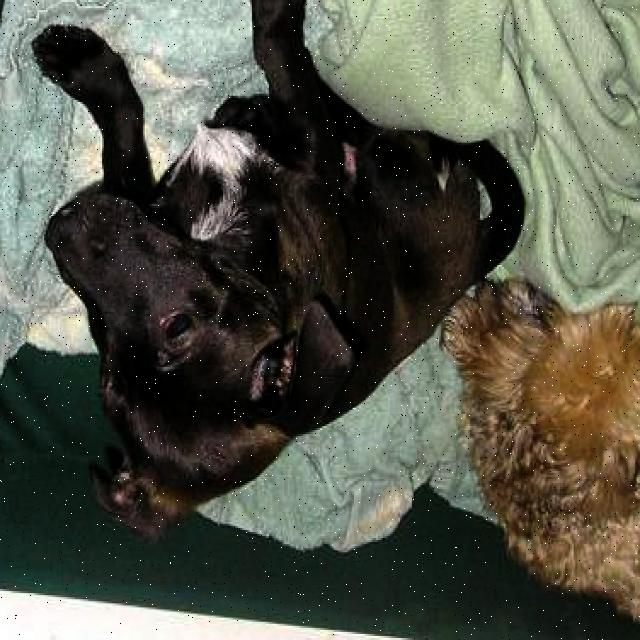Dog: (25, 148, 348, 547)
